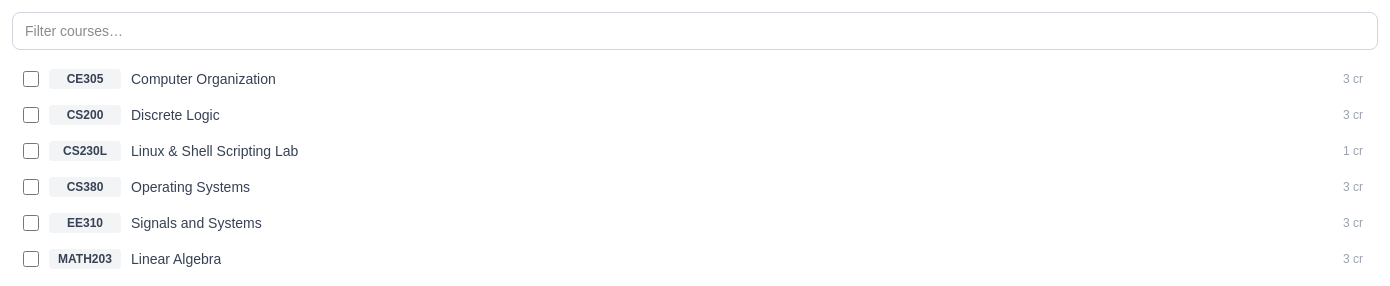
Test: CompletedCourseList › reports when nothing matches instead of rendering an empty panel
In the search field named "Filter courses by code or title": coordinates (695, 31) left=12, top=12, right=1378, bottom=50, type "zzzz"
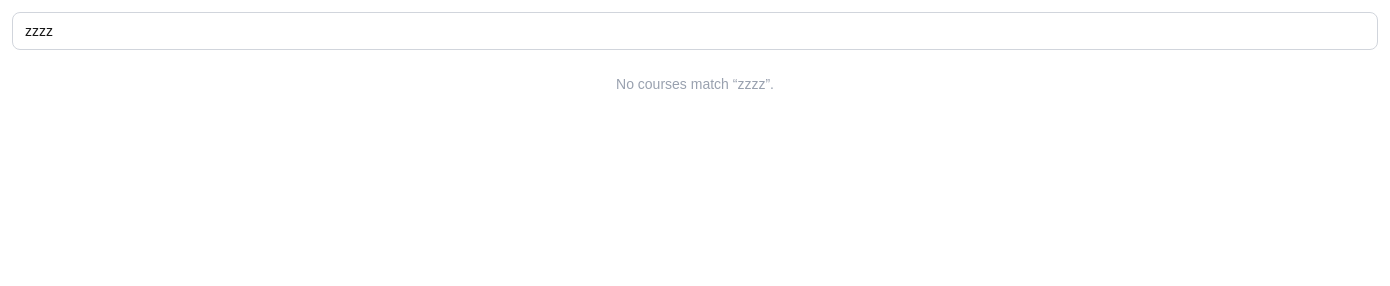
Check: the text "No courses match “zzzz”." is shown, box left=616, top=76, right=774, bottom=92
